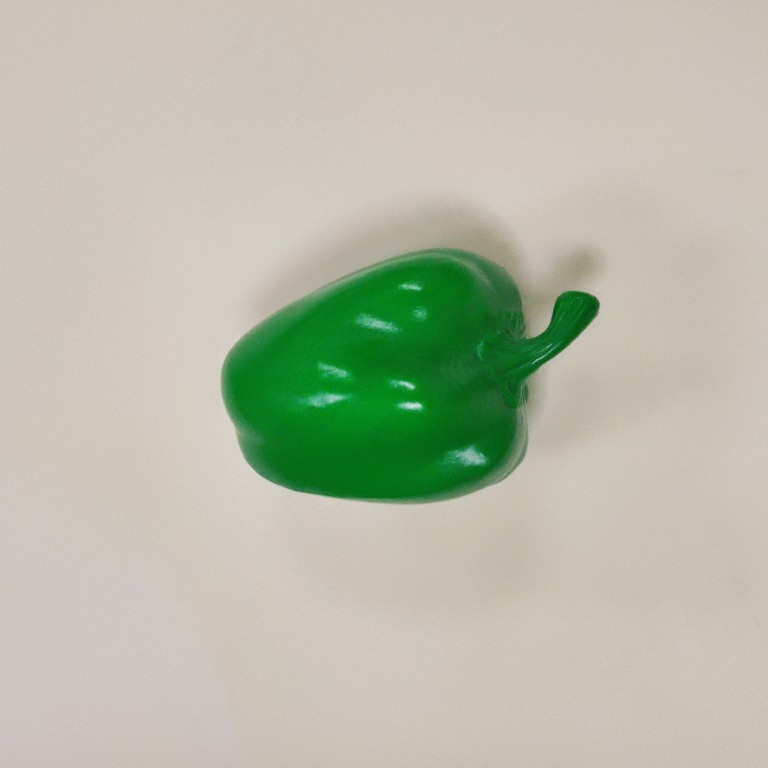fruit_pepper: (212, 241, 605, 510)
